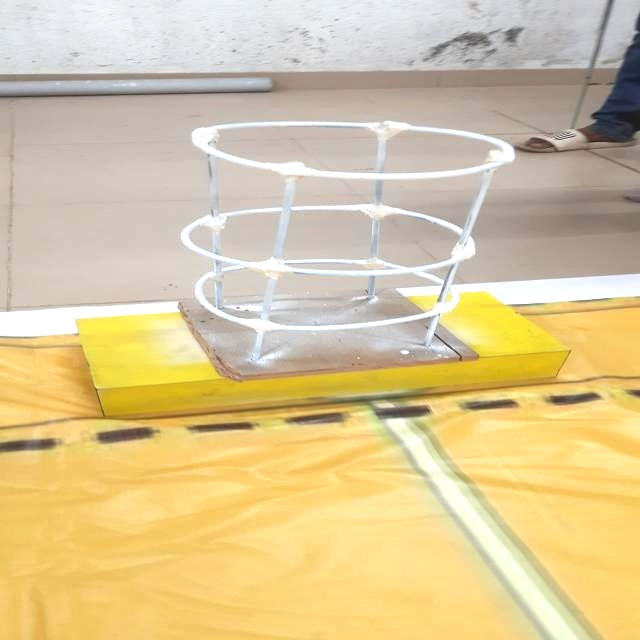silo: (158, 112, 546, 383)
